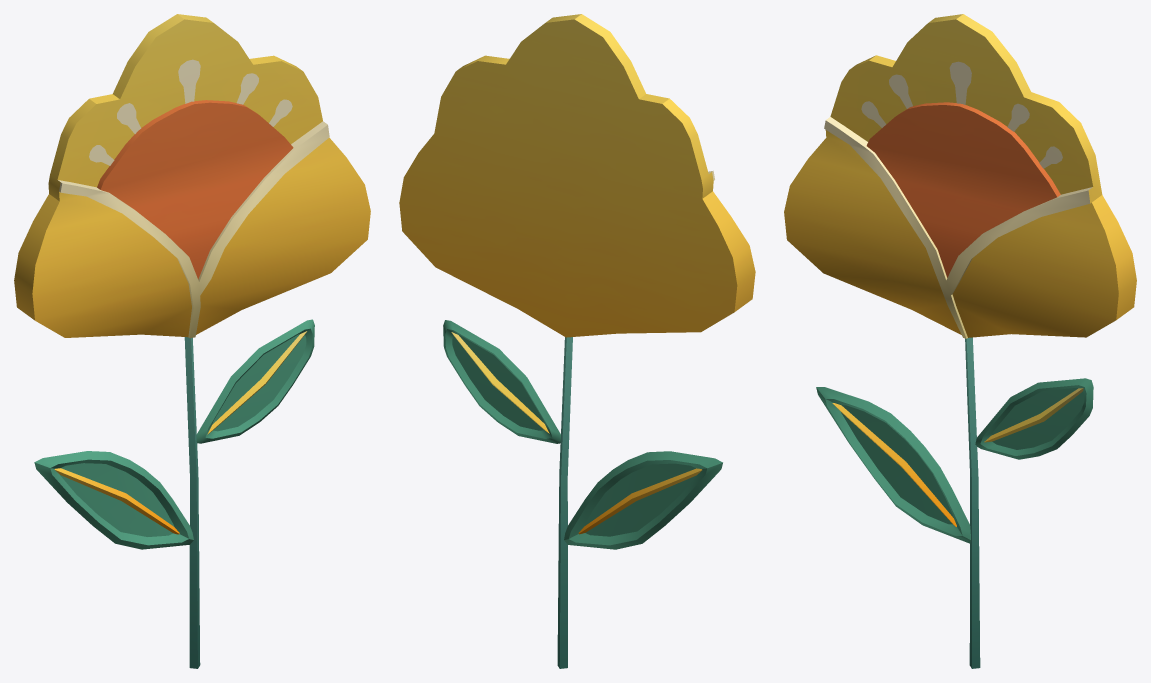
Rendered from Doll_OB_ToyFlower02.fbx.
3 renders of one model, left to right at view 1: azimuth 30°, elevation 25°; view 2: azimuth 150°, elevation 25°; view 3: azimuth 330°, elevation 25°, orthographic.
Parts seen in each view (by area): view 1: Doll_OB_ToyFlower02_1, Doll_OB_ToyFlower02_2; view 2: Doll_OB_ToyFlower02_1, Doll_OB_ToyFlower02_2; view 3: Doll_OB_ToyFlower02_1, Doll_OB_ToyFlower02_2.
Boxes of the visible parts, <box> form: Doll_OB_ToyFlower02_1: <box>14,14,370,668</box>; Doll_OB_ToyFlower02_2: <box>54,59,329,534</box>; Doll_OB_ToyFlower02_1: <box>399,14,755,668</box>; Doll_OB_ToyFlower02_2: <box>451,170,714,534</box>; Doll_OB_ToyFlower02_1: <box>784,14,1136,668</box>; Doll_OB_ToyFlower02_2: <box>824,61,1092,526</box>.
Size of the model in its own units: 4.42 by 8.15 by 0.4543.
Materials: 1 (1 with a texture image).
